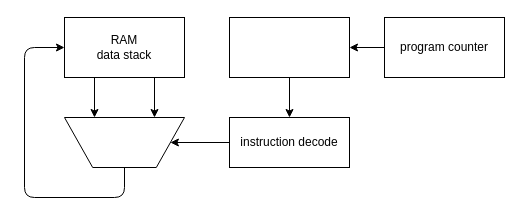
Some shapes in this 522 by 223 pixel diagram are drawn without their labels. The centre of each missing label's shape, as x and y in pixels:
"ALU" belongs at point 124,142.
"program memory (read only)" belongs at point 289,47.
